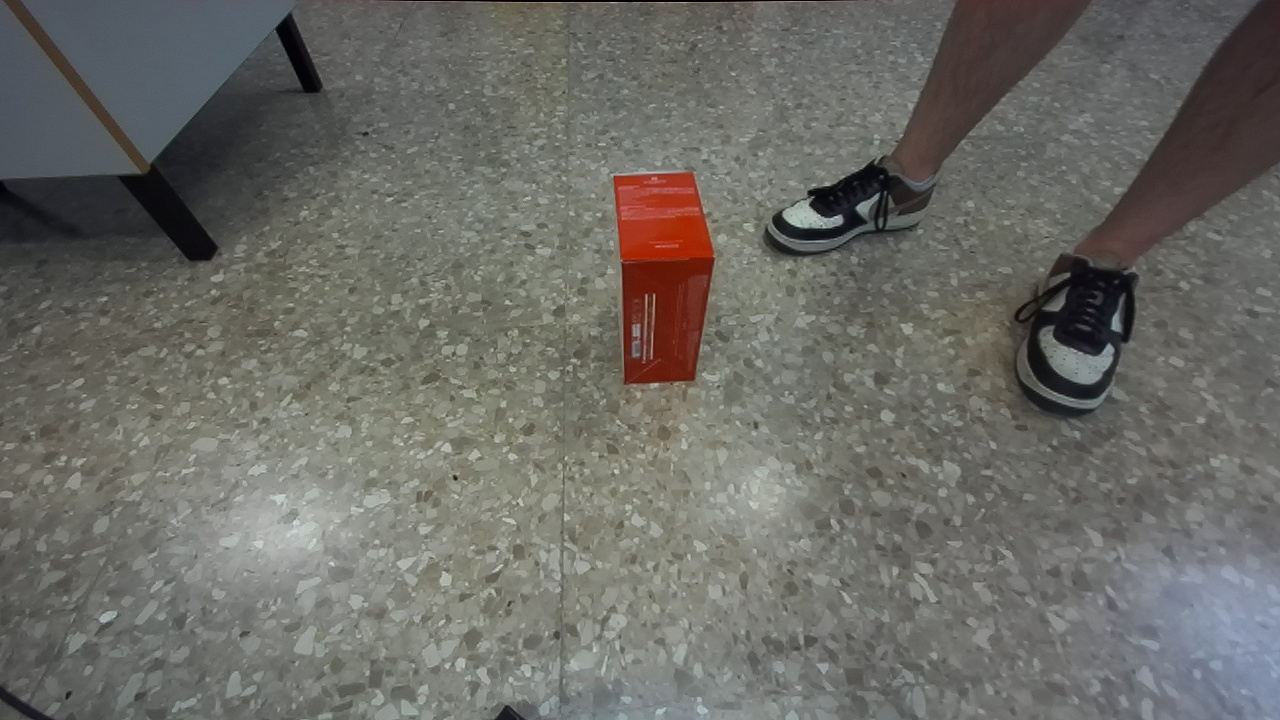caja_busbar: (613, 172, 715, 383)
